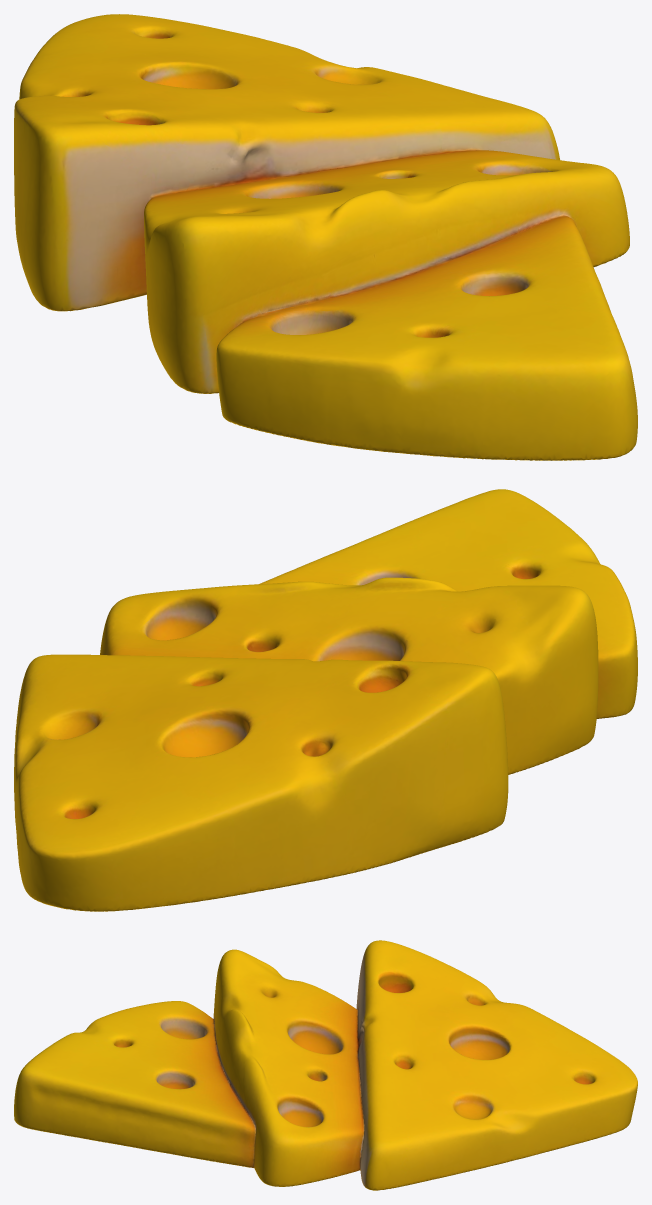
Rendered from tripo_convert_cc829083-ca75-40fd-9724-380aa6fd5058.fbx.
The picture shows the model from 3 angles, top to bottom: view 1: azimuth 30°, elevation 25°; view 2: azimuth 150°, elevation 25°; view 3: azimuth 270°, elevation 25°; orthographic projection. The views are drawn at different scales.
Parts seen in each view (by area): view 1: tripo_node_cc829083; view 2: tripo_node_cc829083; view 3: tripo_node_cc829083.
Boxes of the visible parts, <box> form: tripo_node_cc829083: <box>14,14,637,460</box>; tripo_node_cc829083: <box>14,489,637,911</box>; tripo_node_cc829083: <box>14,940,637,1190</box>.
Size of the model in its own units: 0.5822 by 0.1812 by 1.
